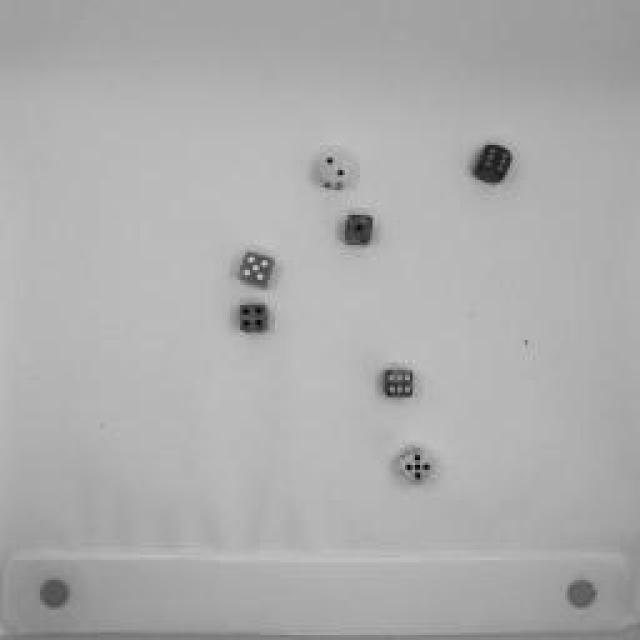dice_1: (342, 212, 376, 248)
dice_2: (308, 154, 358, 196)
dice_4: (231, 300, 271, 335)
dice_5: (392, 442, 442, 488), (240, 248, 275, 290)
dice_6: (468, 142, 522, 188), (380, 362, 420, 402)
